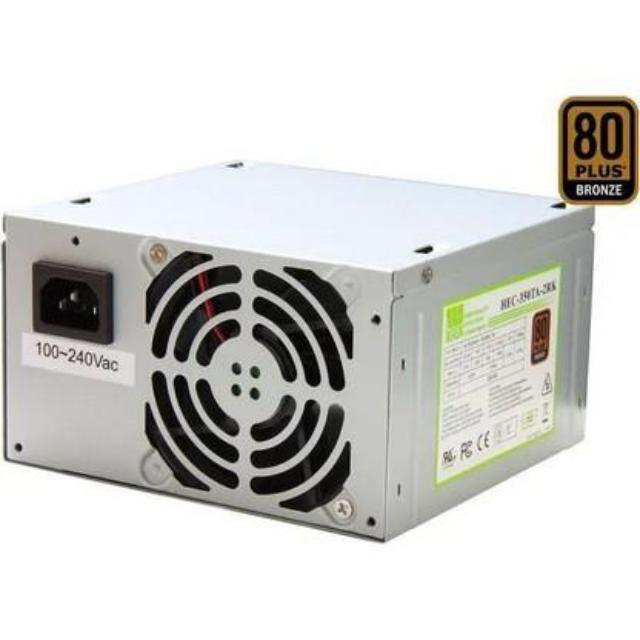PSU: (0, 161, 608, 576)
